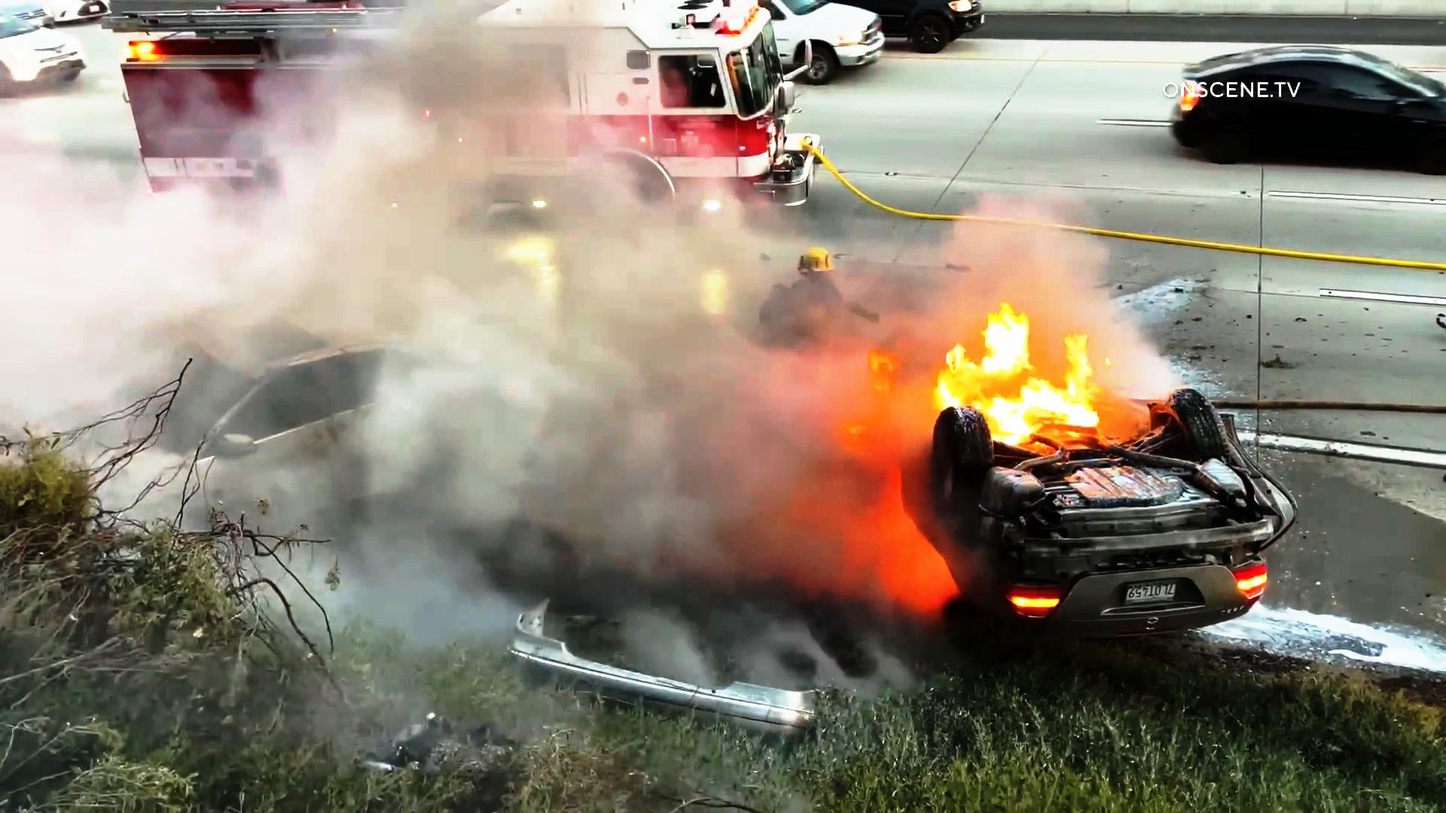fire: (922, 315, 1104, 439)
smoke: (386, 357, 876, 716), (255, 13, 690, 355), (952, 192, 1116, 315), (1112, 318, 1185, 411)
